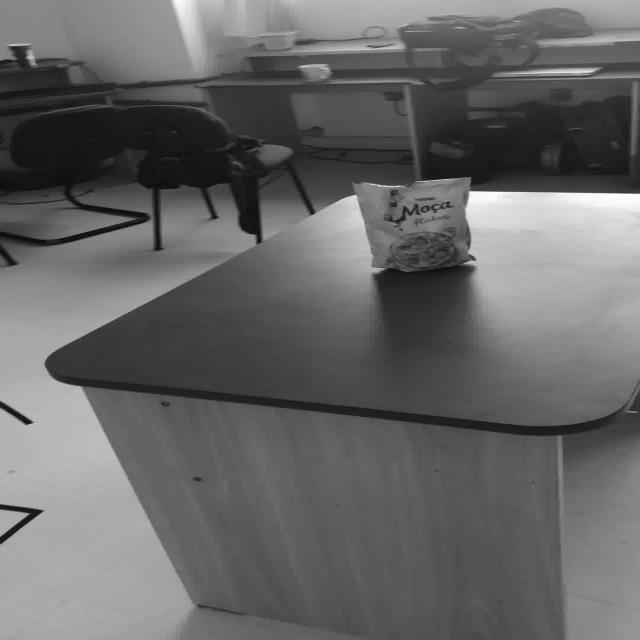corn flakes: (350, 176, 475, 272), (386, 230, 454, 268)
